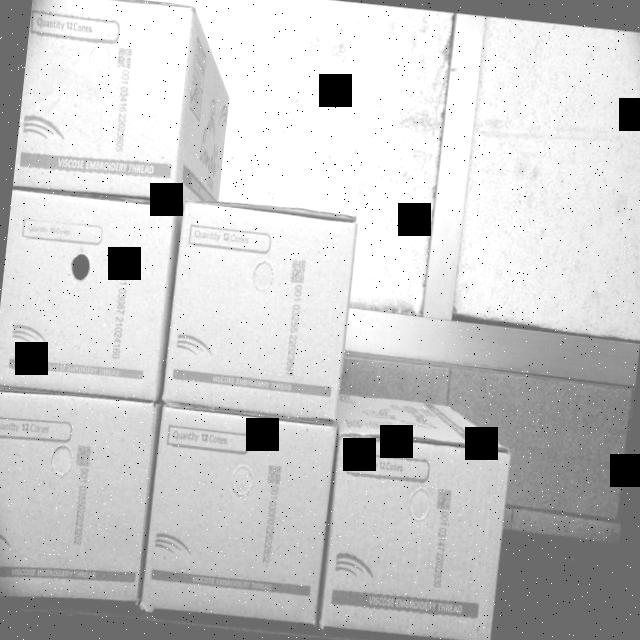box: (160, 204, 357, 420), (140, 406, 337, 620), (323, 432, 508, 640), (12, 0, 200, 202), (0, 189, 175, 398), (0, 386, 157, 607)
